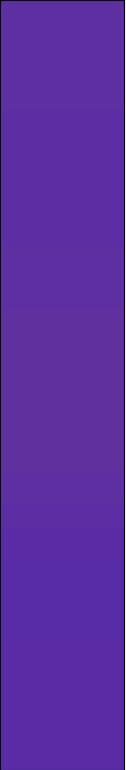safe: (10, 7, 114, 752)
